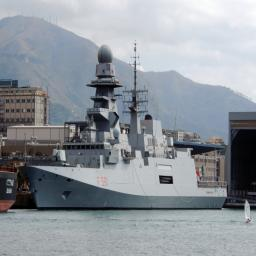Fragata: (19, 35, 232, 215)
